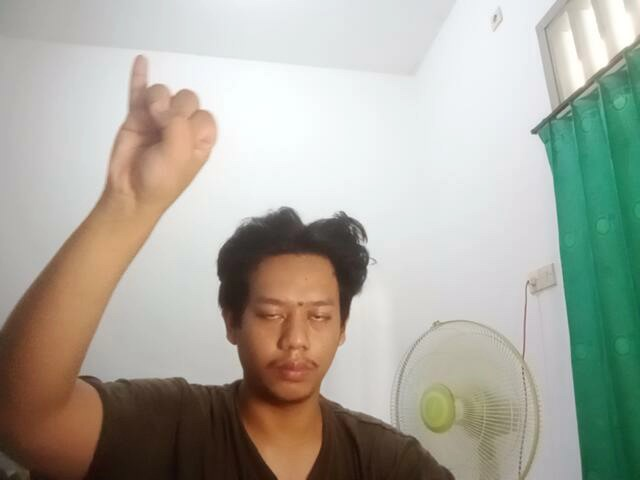I: (93, 47, 222, 207)
